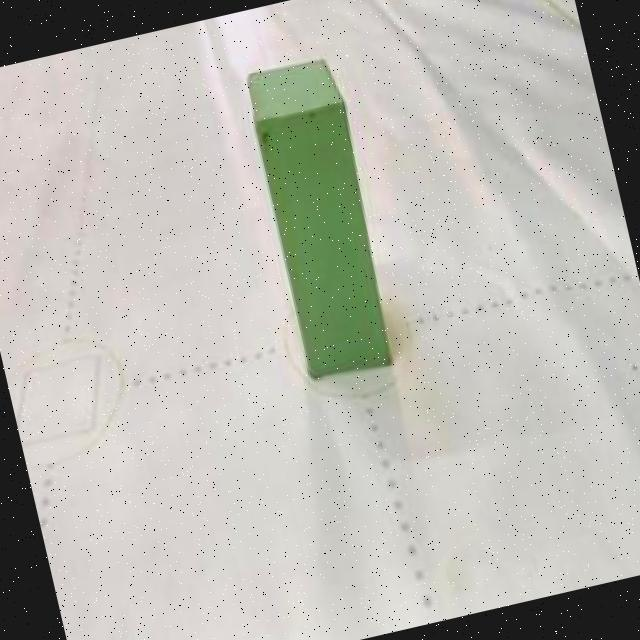greenbox: (234, 47, 409, 384)
